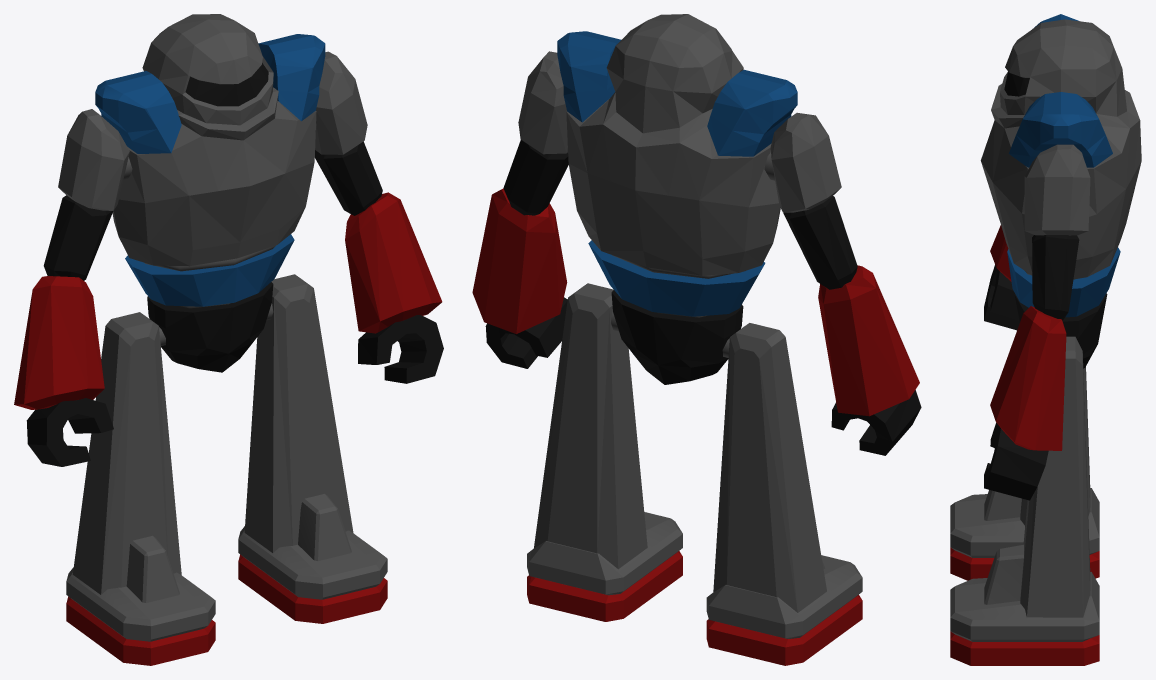
Rendered from Robot.FBX.
The picture shows the model from 3 angles, left to right: view 1: azimuth 30°, elevation 25°; view 2: azimuth 150°, elevation 25°; view 3: azimuth 270°, elevation 25°; orthographic projection. The views are drawn at different scales.
Parts seen in each view (by area): view 1: Robot; view 2: Robot; view 3: Robot.
Boxes of the visible parts, x1,y1,x2,y2 form: Robot: [14, 14, 443, 665]; Robot: [472, 14, 921, 665]; Robot: [950, 14, 1141, 665].
Bounding box in the file's own units: 0.3302 × 0.1309 × 0.4341.
